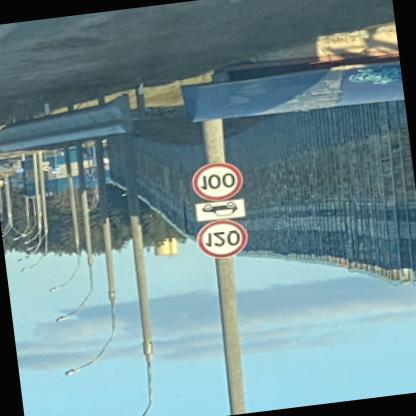speedlimit: (186, 161, 242, 204), (192, 219, 246, 262)
